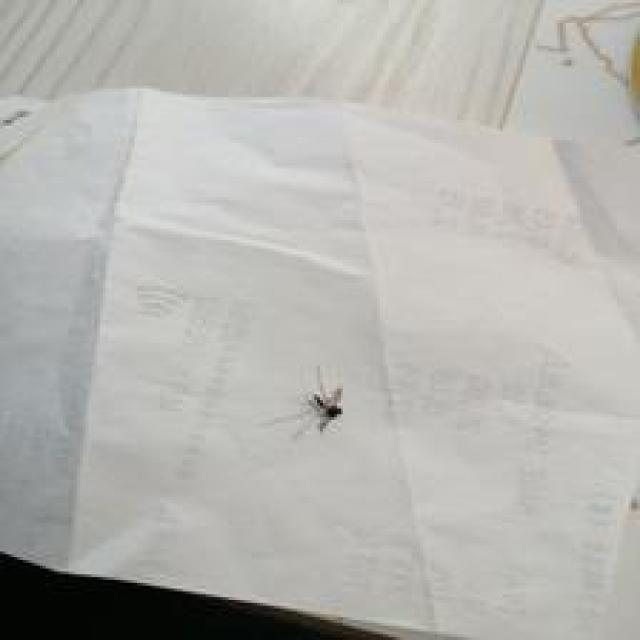Aedes albopictus: (303, 364, 346, 433)
